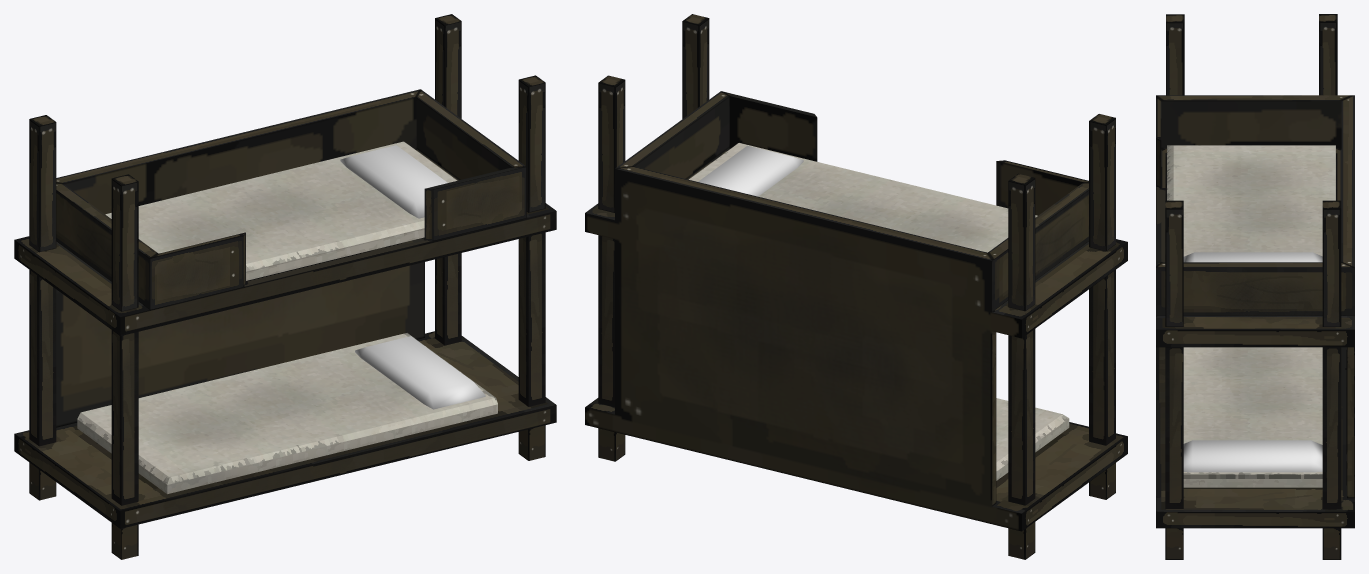
Rendered from bunkbed.fbx.
3 views of the same model, side by side, from view 1: azimuth 30°, elevation 25°; view 2: azimuth 150°, elevation 25°; view 3: azimuth 270°, elevation 25° (orthographic). The views are drawn at different scales.
Parts seen in each view (by area): view 1: Plane, Pillow 2, Pillow 1; view 2: Plane, Pillow 1; view 3: Plane, Pillow 2, Pillow 1.
Boxes of the visible parts, box(x1,y1,x2,y2) form: Plane: box(14, 14, 556, 559); Pillow 2: box(355, 336, 485, 409); Pillow 1: box(340, 145, 447, 218); Plane: box(585, 14, 1127, 559); Pillow 1: box(698, 145, 803, 196); Plane: box(1156, 14, 1354, 559); Pillow 2: box(1183, 440, 1322, 472); Pillow 1: box(1183, 252, 1322, 262).
Size of the model in its own units: 256 by 210 by 108.
